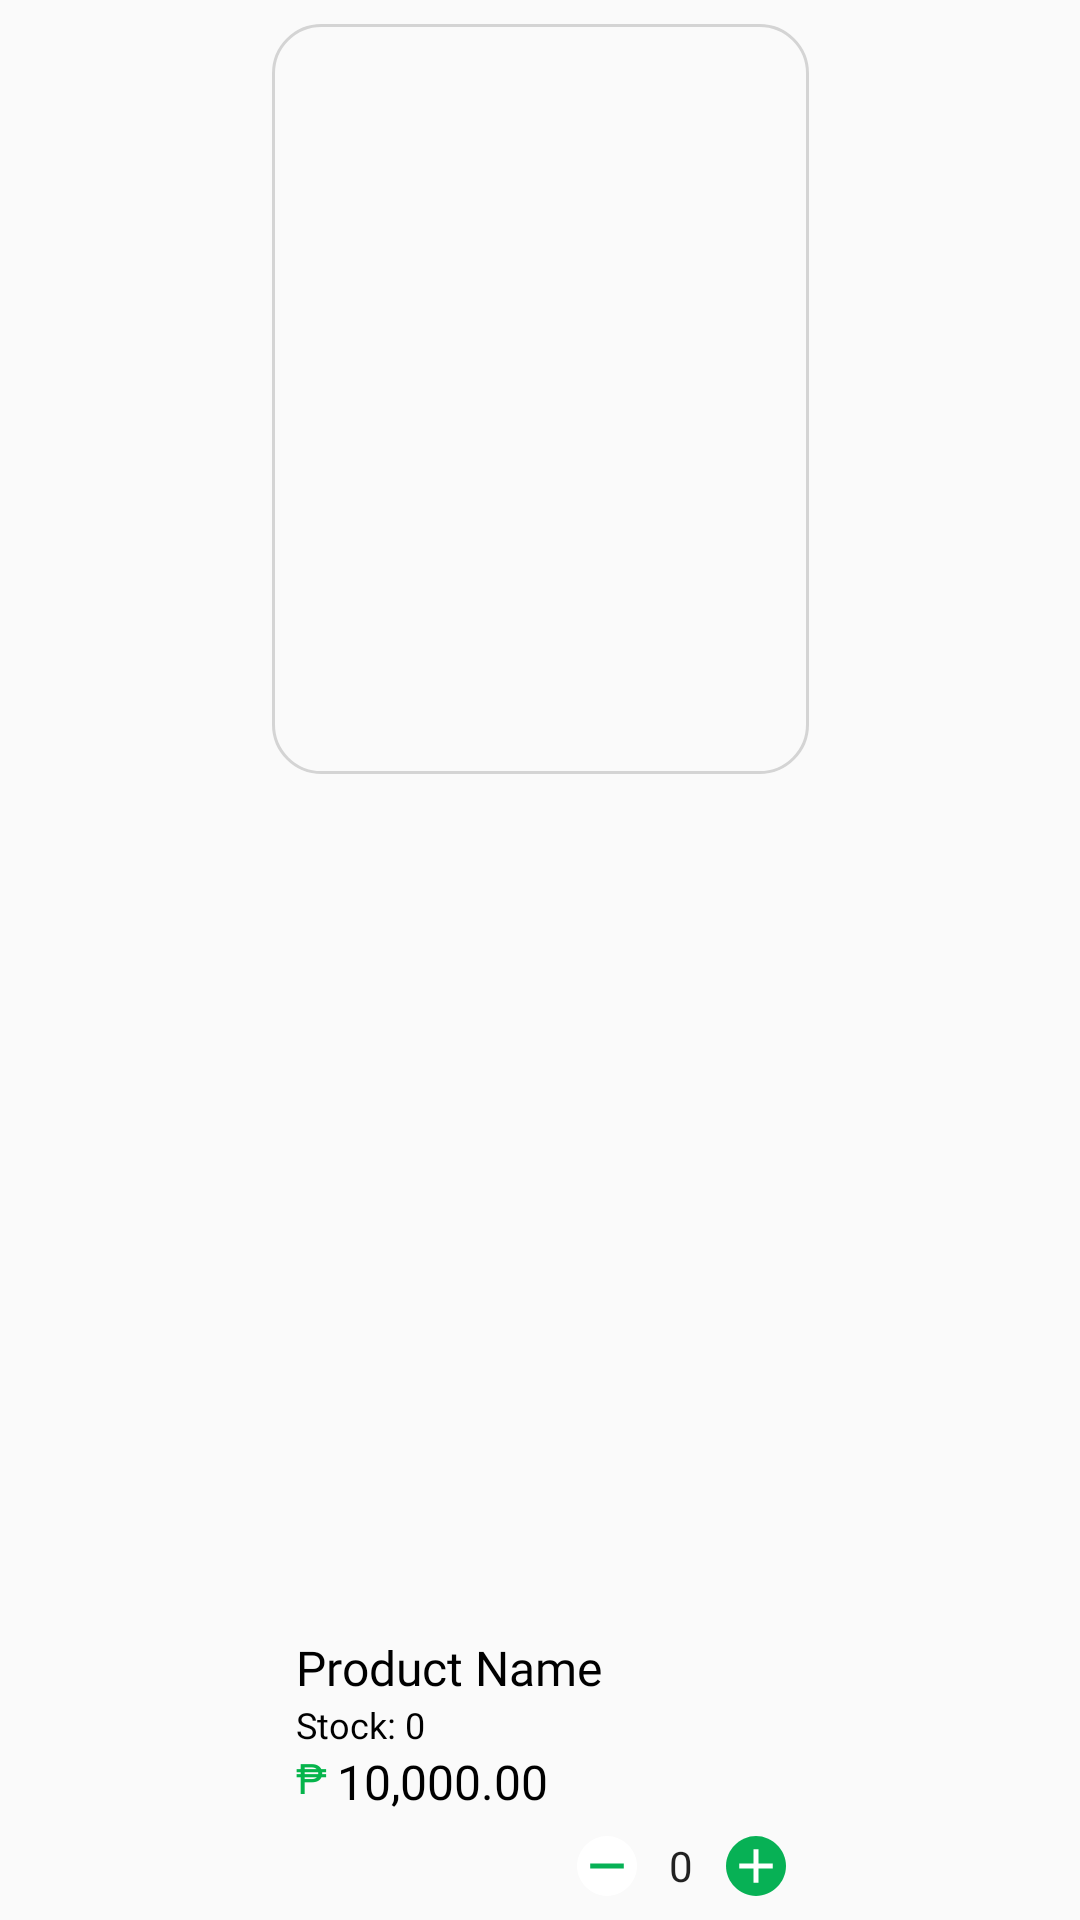

Named icons in this screenshot (1080×1920) and their bounding boxes, (x1, y1, x2, y2):
add: (726, 1836, 786, 1896)
minus: (590, 1863, 624, 1869)
